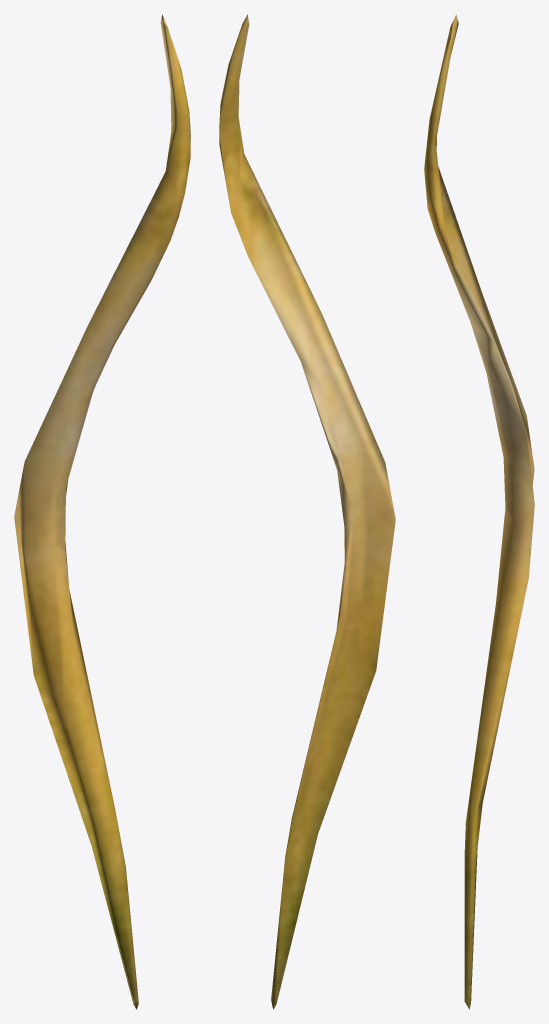
Rendered from ribbonweed.glb.
3 views of the same model, side by side, from view 1: azimuth 30°, elevation 25°; view 2: azimuth 210°, elevation 25°; view 3: azimuth 270°, elevation 25° (orthographic).
Visible parts, largest first — view 1: ribbonweed; view 2: ribbonweed; view 3: ribbonweed.
Boxes of the visible parts, x1,y1,x2,y2 form: ribbonweed: [14, 14, 190, 1009]; ribbonweed: [219, 14, 395, 1009]; ribbonweed: [424, 14, 534, 1009].
Size of the model in its own units: 0.1612 by 1.2 by 0.1198.
1 material, 1 textured.
